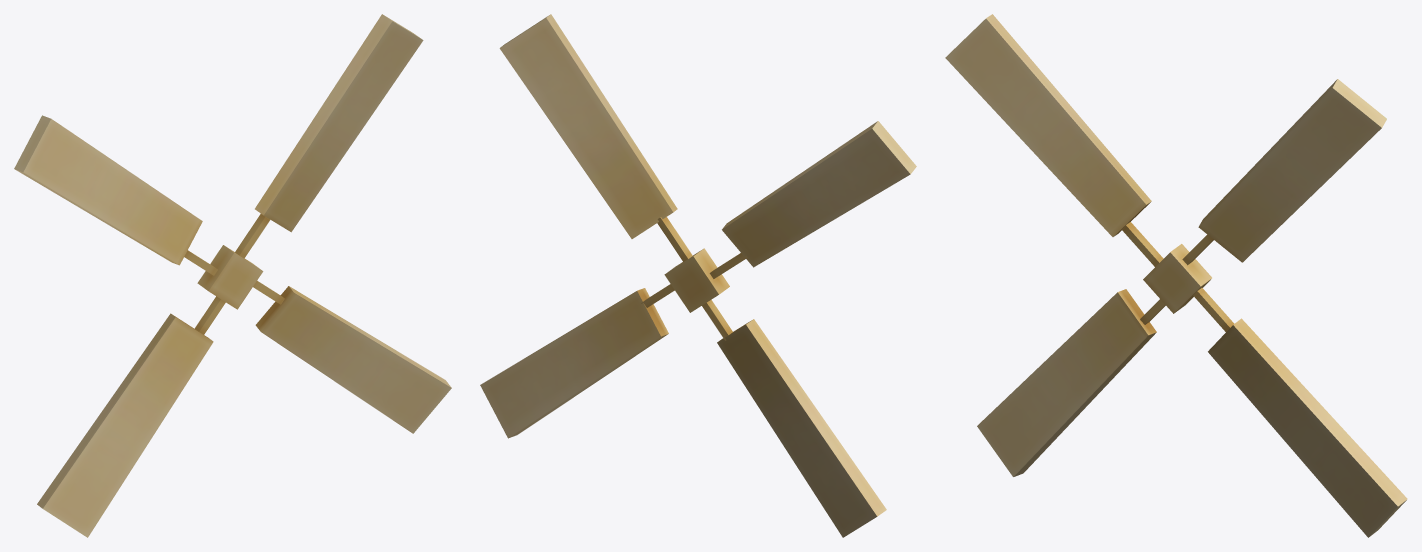
File: B9Broke03.FBX
3 renders of one model, left to right at view 1: azimuth 30°, elevation 25°; view 2: azimuth 150°, elevation 25°; view 3: azimuth 330°, elevation 25°, orthographic. The views are drawn at different scales.
Visible parts, largest first — view 1: B9Broke03; view 2: B9Broke03; view 3: B9Broke03.
Boxes of the visible parts, <box> form: B9Broke03: <box>14,14,451,537</box>; B9Broke03: <box>480,14,916,537</box>; B9Broke03: <box>945,14,1407,537</box>.
Size of the model in its own units: 43.98 by 43.57 by 2.73.
